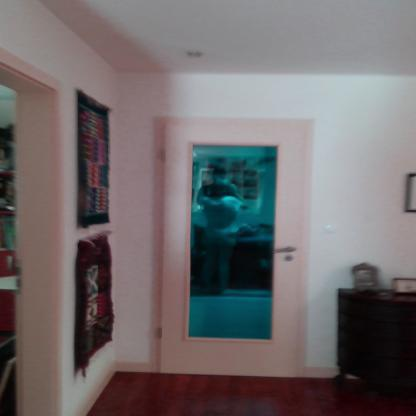door: (162, 119, 304, 380)
hinged: (160, 148, 166, 160), (158, 326, 162, 338)
lever: (267, 245, 297, 255)
